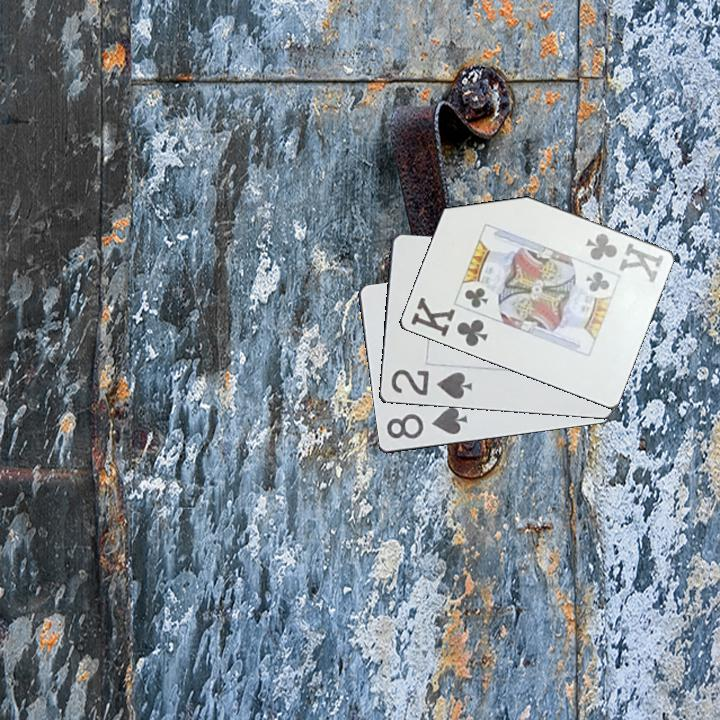2s: (387, 366, 475, 403)
8s: (383, 404, 470, 442)
Kc: (582, 230, 666, 286), (407, 294, 490, 350)
